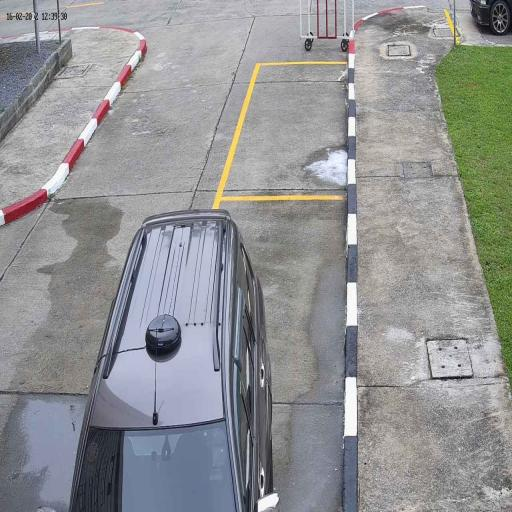car: (65, 205, 276, 512)
